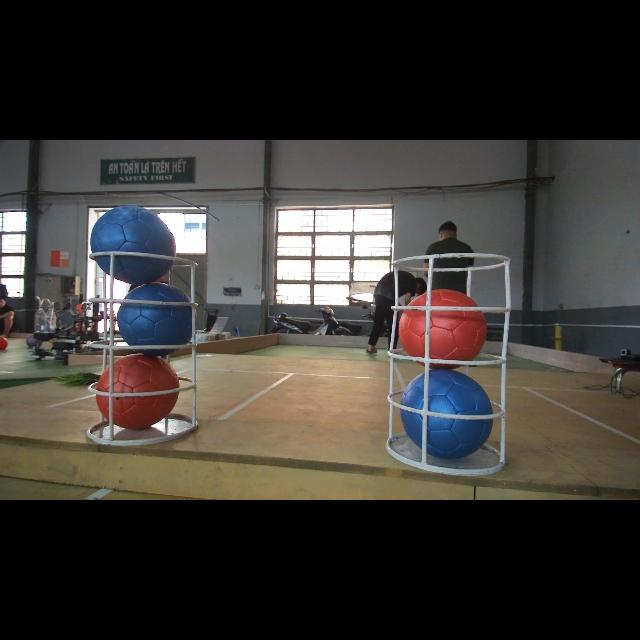B: (397, 370, 493, 460), (90, 201, 176, 281), (118, 282, 192, 348)
R: (399, 291, 486, 374), (93, 352, 177, 430)
